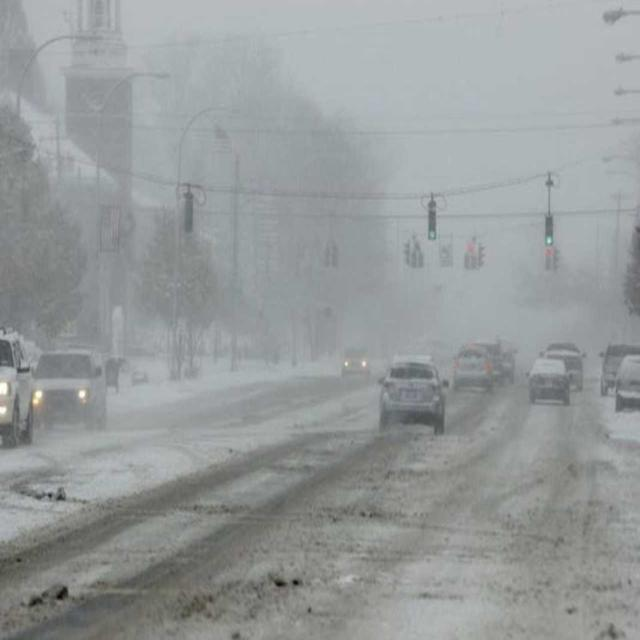car: (29, 348, 107, 431), (380, 359, 448, 432), (1, 334, 39, 445), (598, 341, 638, 396), (452, 348, 496, 393), (548, 340, 586, 392), (530, 357, 566, 403), (614, 356, 640, 413), (495, 334, 517, 382), (340, 347, 369, 380)
